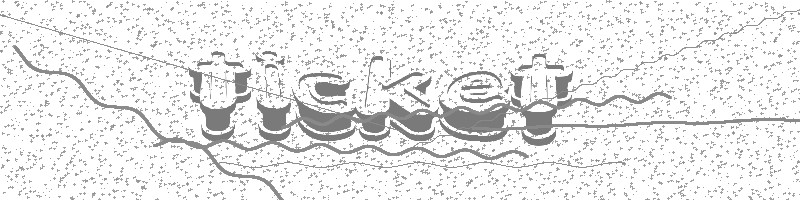c: (292, 69, 358, 144)
e: (438, 67, 511, 144)
i: (251, 44, 296, 143)
k: (356, 55, 438, 142)
t: (185, 49, 254, 144), (509, 52, 576, 148)
